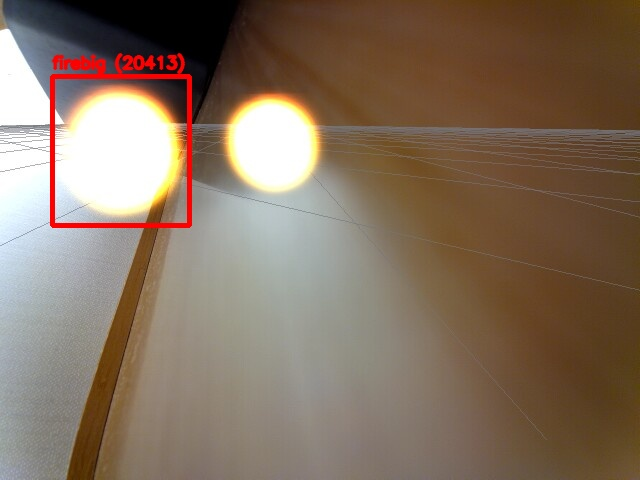firebig: (52, 76, 189, 225)
